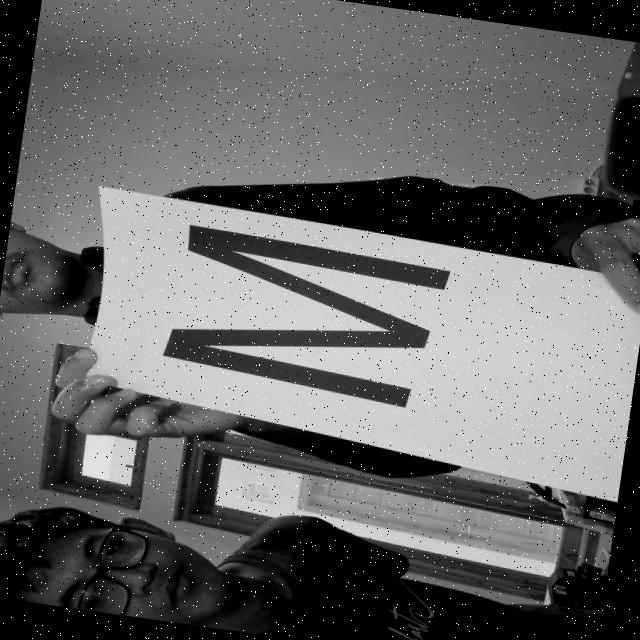m: (124, 214, 506, 426)
